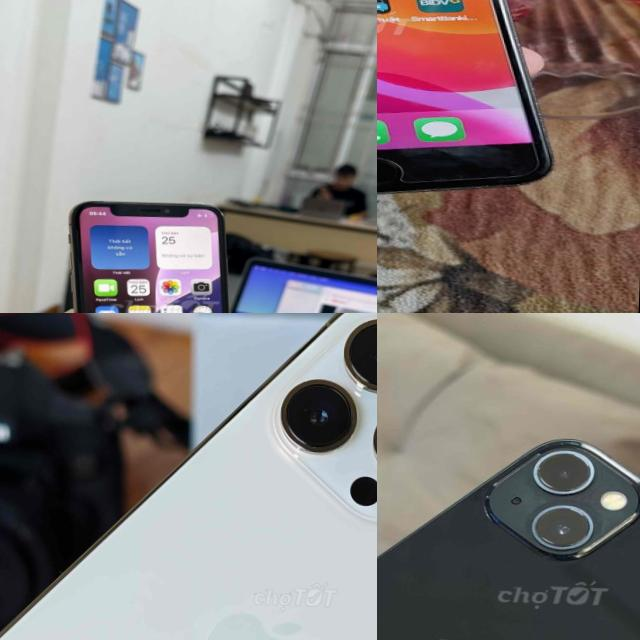gen_12_13: (377, 422, 640, 640)
gen_14: (0, 313, 377, 640)
gen_7_8: (377, 0, 548, 192)
gen_x_xs: (59, 196, 243, 313)
scratch: (495, 24, 570, 150)
